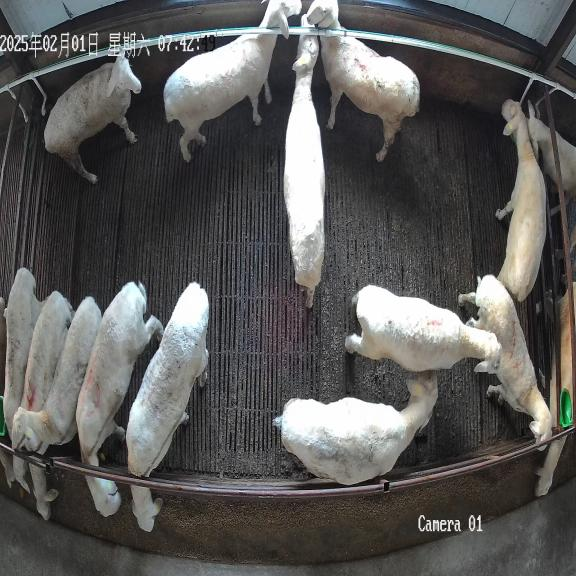eating: (127, 283, 209, 533), (75, 285, 162, 519), (13, 290, 74, 492)
stand: (164, 0, 302, 162), (301, 0, 420, 162), (281, 372, 438, 485), (459, 275, 552, 444), (12, 297, 101, 454), (345, 285, 502, 373), (44, 53, 141, 184), (283, 12, 325, 308), (495, 100, 546, 301), (4, 268, 43, 436)
